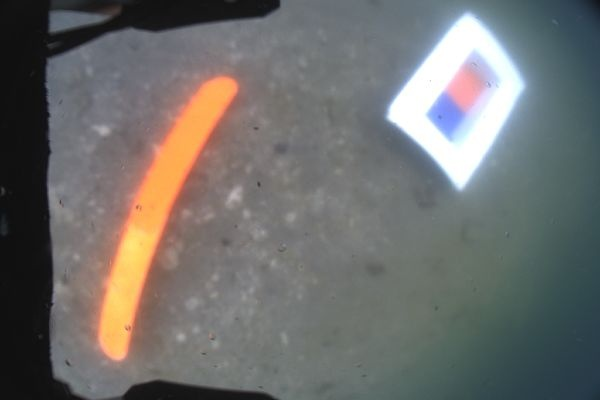bin: (387, 13, 523, 191)
bin_bleue: (427, 94, 463, 136)
bin_rouge: (446, 66, 484, 112)
path: (99, 77, 238, 360)
